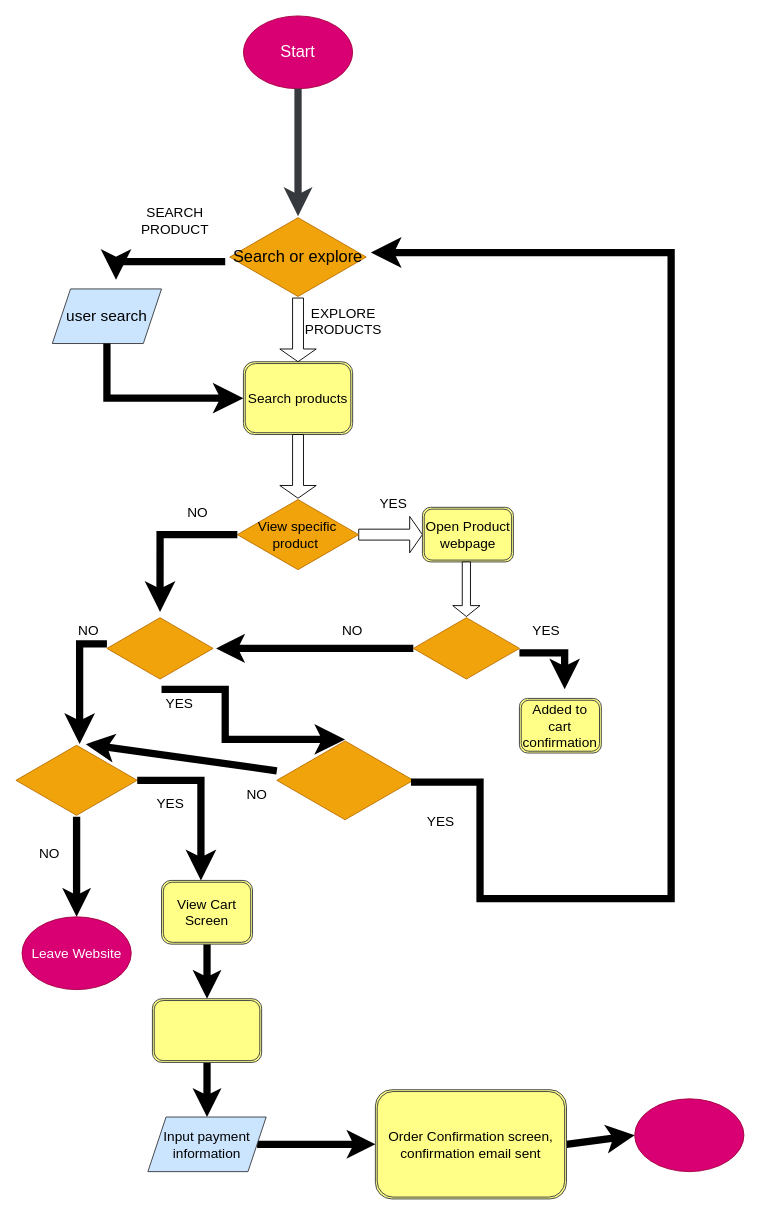
Some shapes in this 760 by 1215 pixel diagram are drawn without their labels. Here are the shapes that lost their labels. From the top down, the centre of each, then its label:
At point (159, 648): "Continue shopping?".
At point (466, 648): "Add to cart?".
At point (76, 780): "checkout?".
At point (344, 779): "Search for new product?".
At point (207, 1030): "View payment screen".
At point (689, 1135): "LEAVE WEBSITTE".
